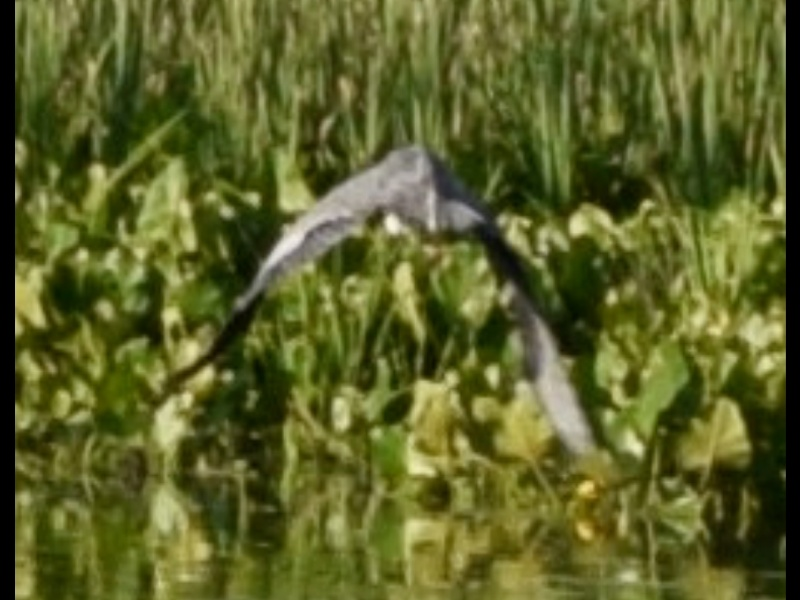heron: (157, 134, 620, 479)
